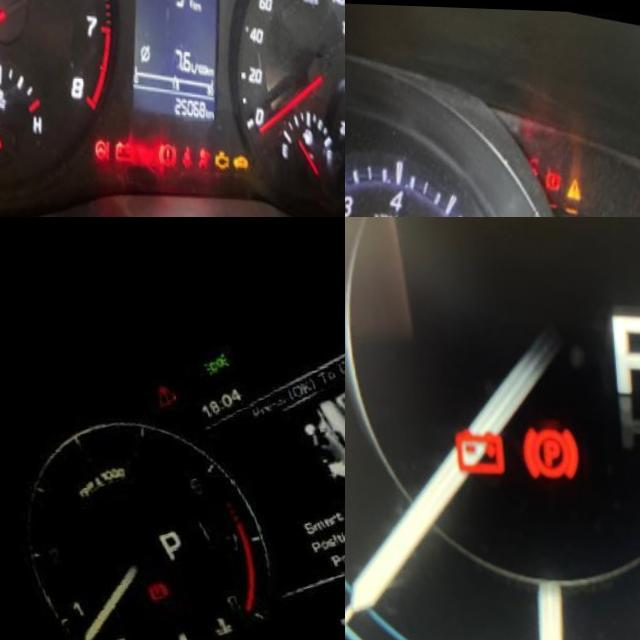Central Warning lamp: (560, 173, 584, 204)
Electronic Power Steering: (82, 135, 104, 159)
Engine cooling system: (196, 605, 234, 640)
